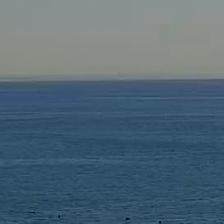surfer: (56, 214, 61, 219), (125, 216, 131, 220), (157, 220, 163, 223), (31, 211, 36, 214)
